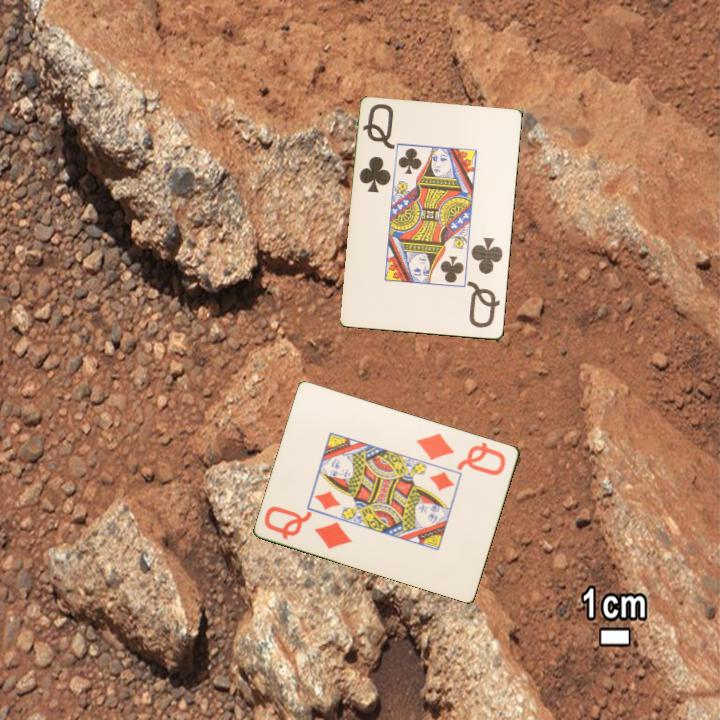Qc: (465, 234, 506, 331), (356, 100, 397, 196)
Qd: (261, 502, 356, 552), (413, 429, 509, 478)
